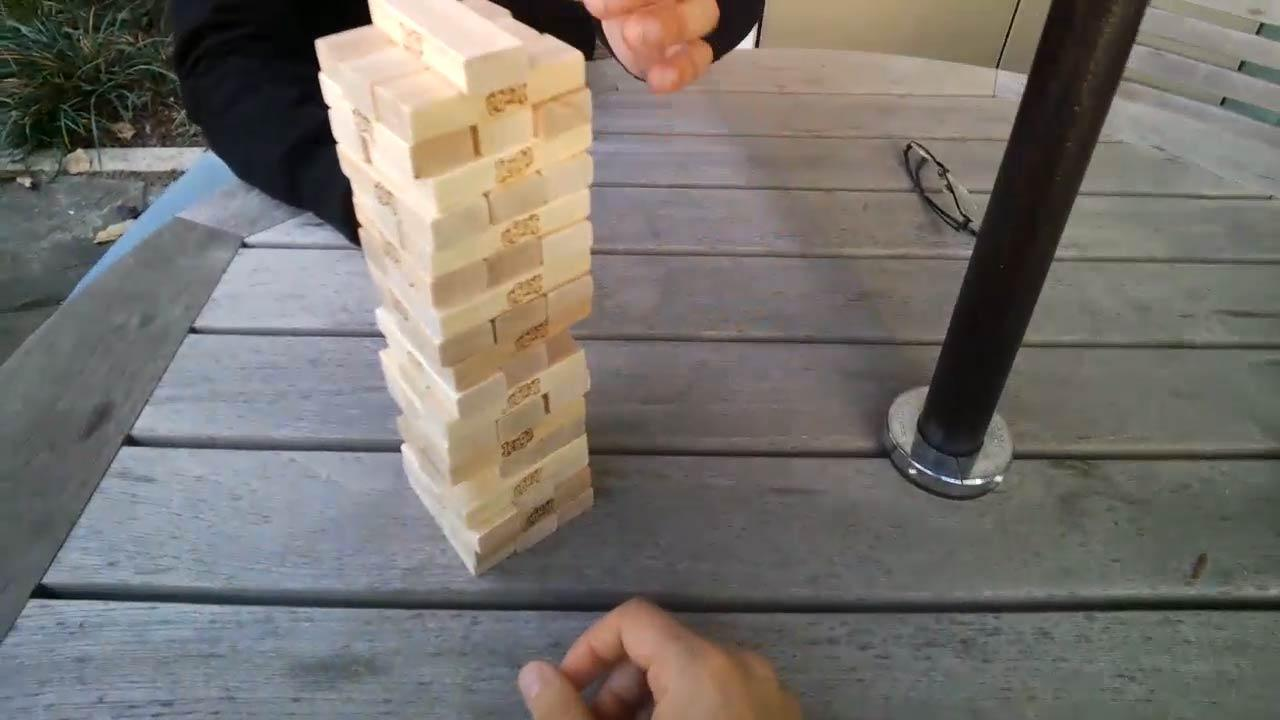hand: (513, 600, 813, 720), (591, 2, 730, 85)
